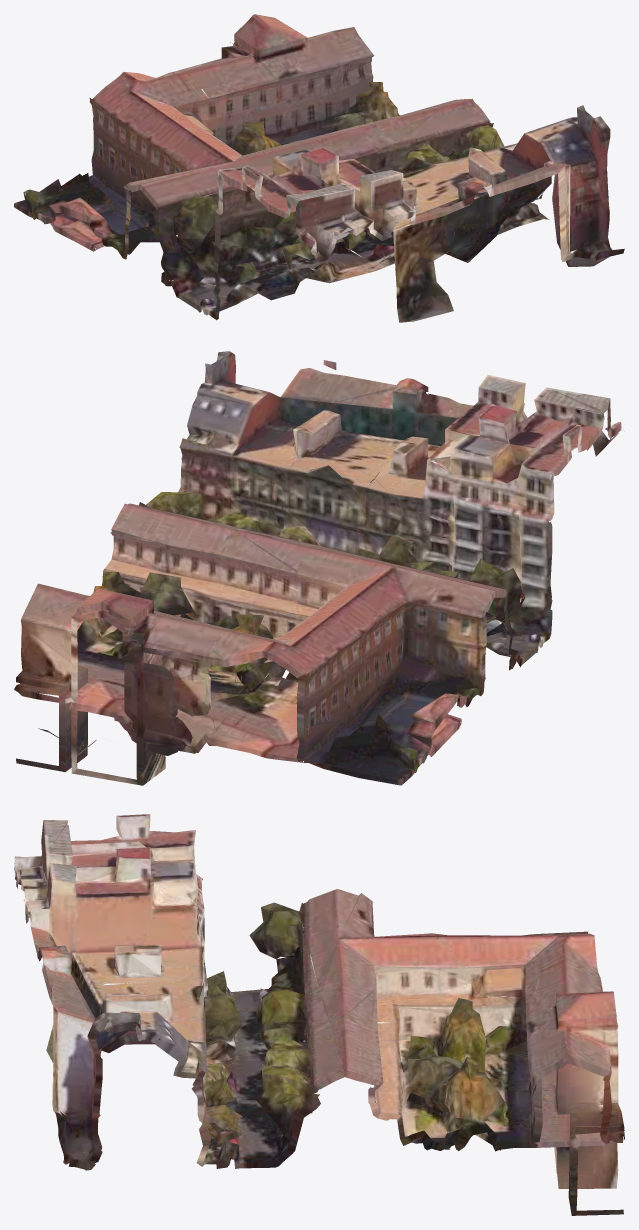
3 renders of one model, top to bottom at view 1: azimuth 30°, elevation 25°; view 2: azimuth 150°, elevation 25°; view 3: azimuth 270°, elevation 25°, orthographic. The views are drawn at different scales.
Visible parts, largest first — view 1: Mesh_0; view 2: Mesh_0; view 3: Mesh_0.
Part boxes in pixels (x1,y1,x2,y2): Mesh_0: [14, 14, 624, 322]; Mesh_0: [14, 351, 624, 785]; Mesh_0: [14, 814, 624, 1215].
Bounding box in the file's own units: 66.58 × 36.22 × 82.62.
Materials: 1 (1 with a texture image).
